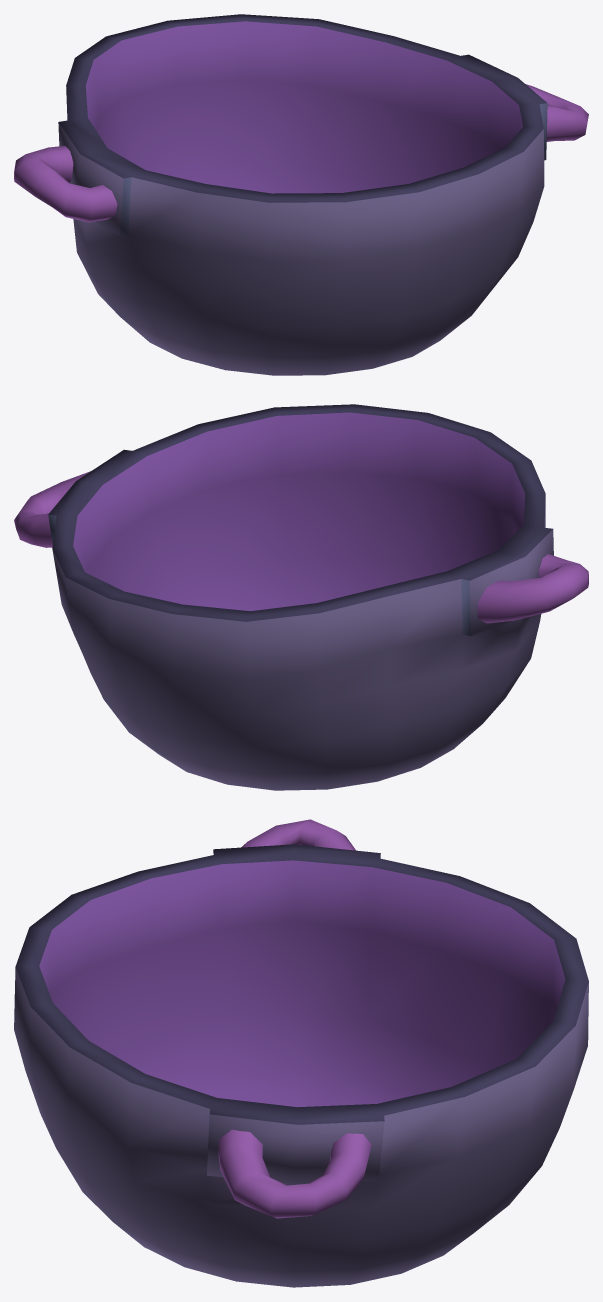
Rendered from pan02.fbx.
3 views of the same model, one above another, from view 1: azimuth 30°, elevation 25°; view 2: azimuth 150°, elevation 25°; view 3: azimuth 270°, elevation 25° (orthographic). The views are drawn at different scales.
Visible parts, largest first — view 1: pan02; view 2: pan02; view 3: pan02.
Boxes of the visible parts, bbox=[...] form: pan02: bbox=[14, 14, 588, 375]; pan02: bbox=[14, 404, 588, 790]; pan02: bbox=[14, 819, 588, 1287].
Bounding box in the file's own units: 133 × 50.32 × 104.
